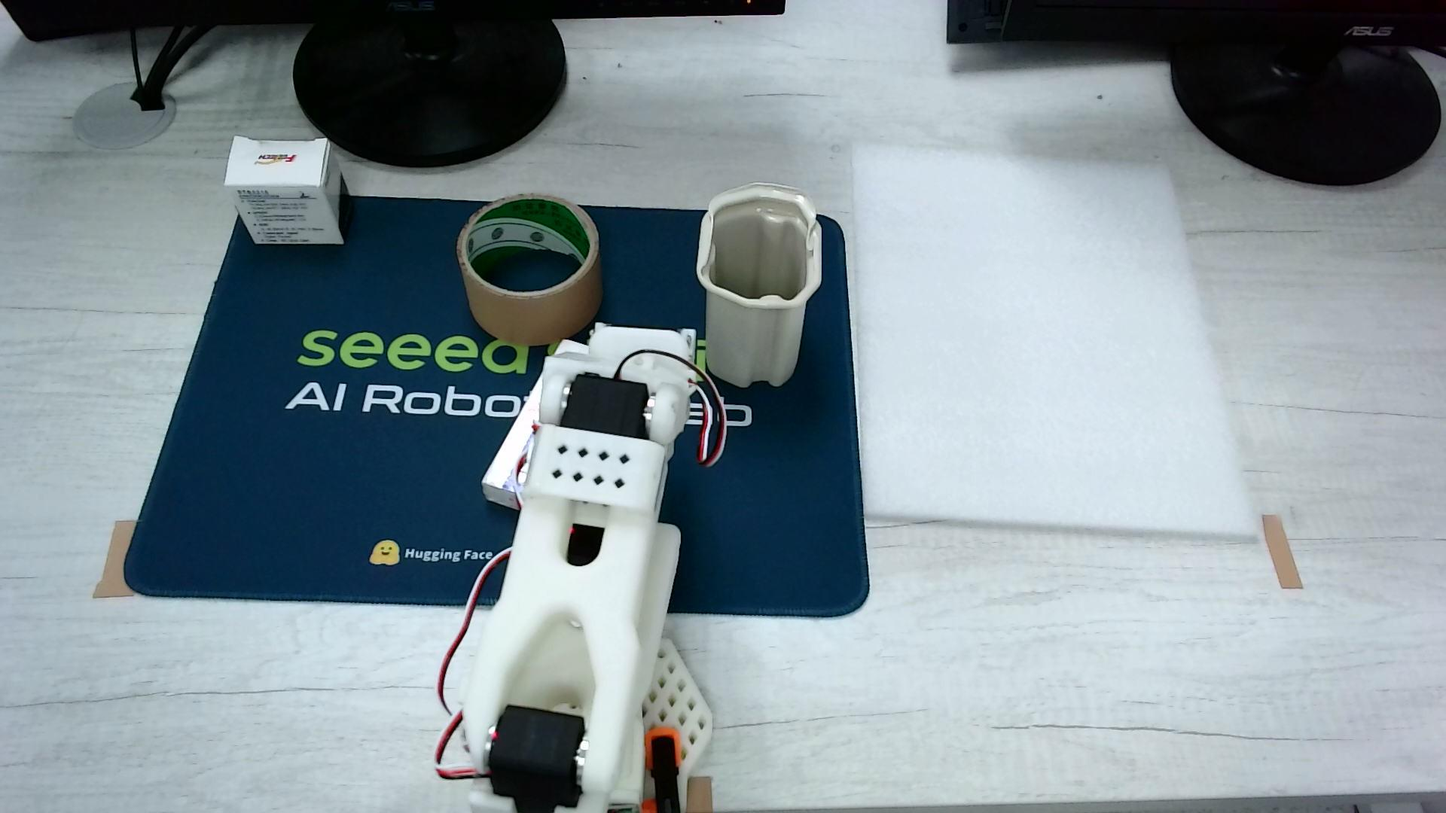eraser: (224, 136, 349, 244)
